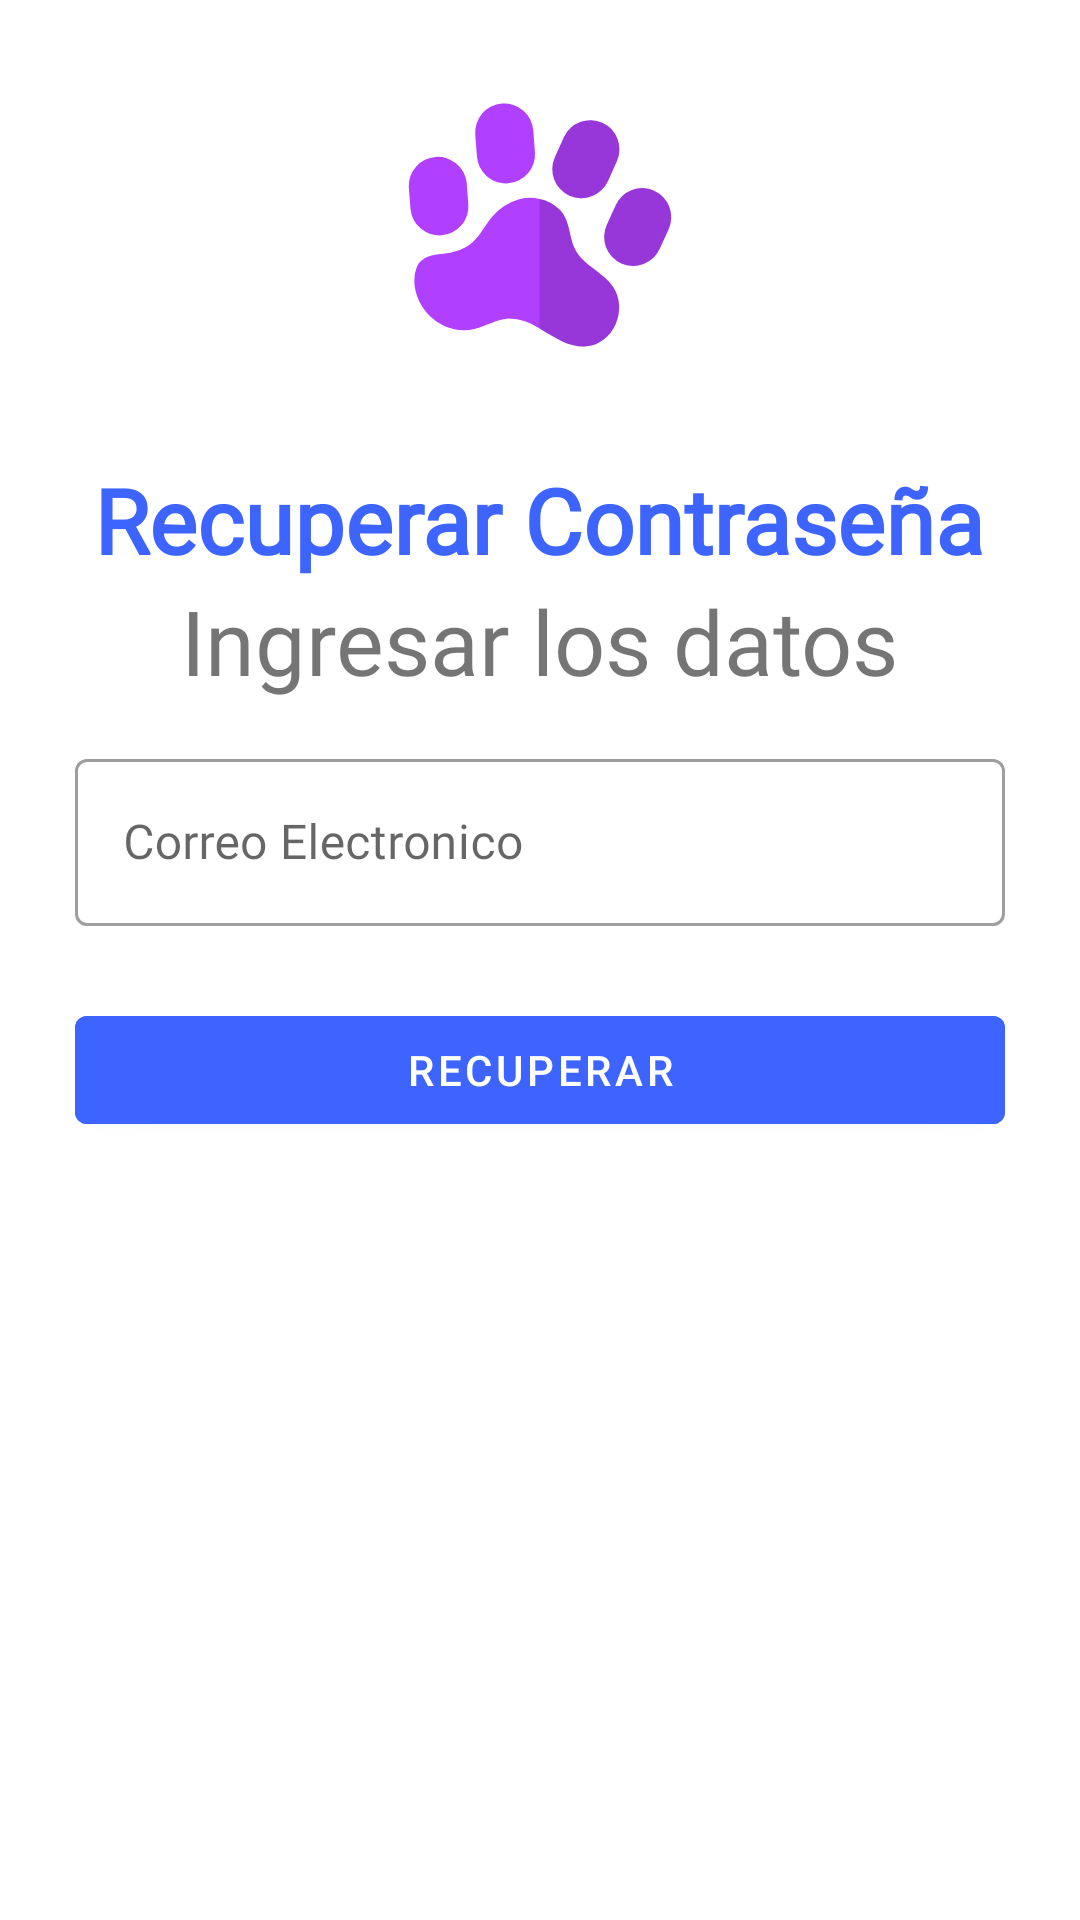

Where icons sit on this 1080w x 1920h app screen, as detection(x1, y1, x2, y2):
paw print animal: detection(408, 103, 672, 347)
